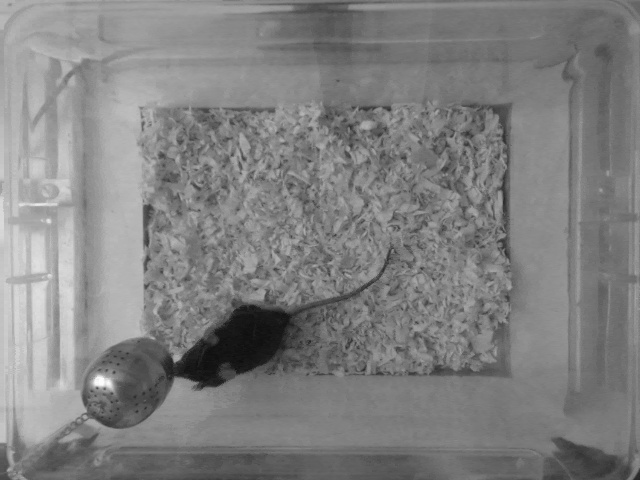mice: (165, 242, 399, 399)
